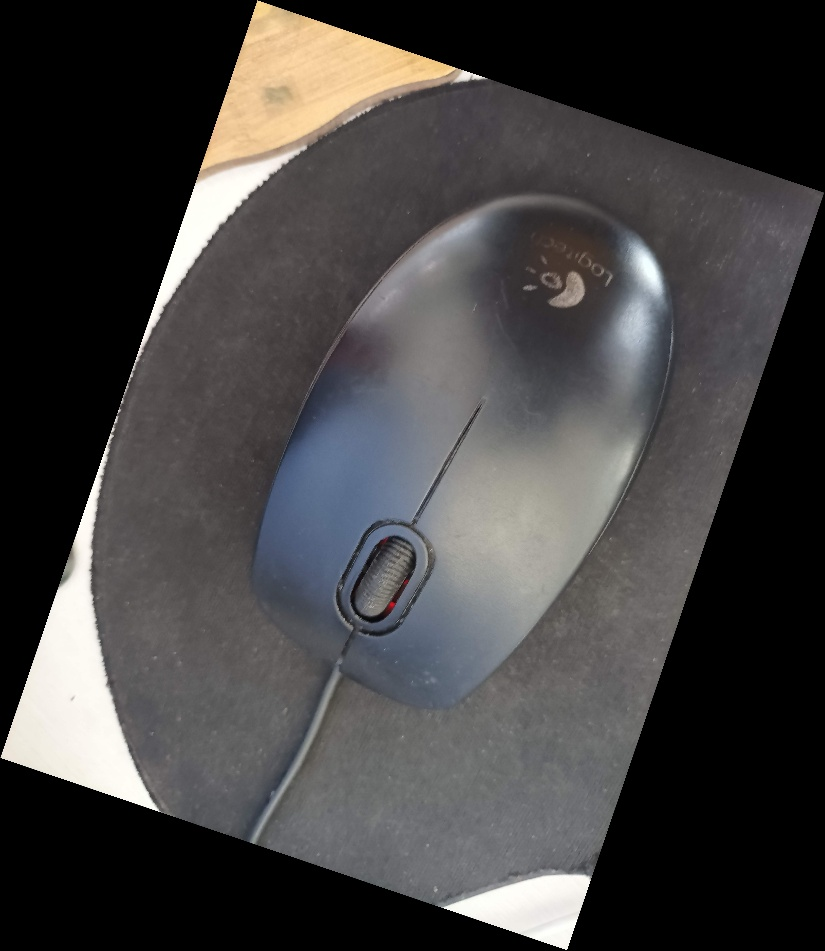mouse: (248, 184, 678, 714)
